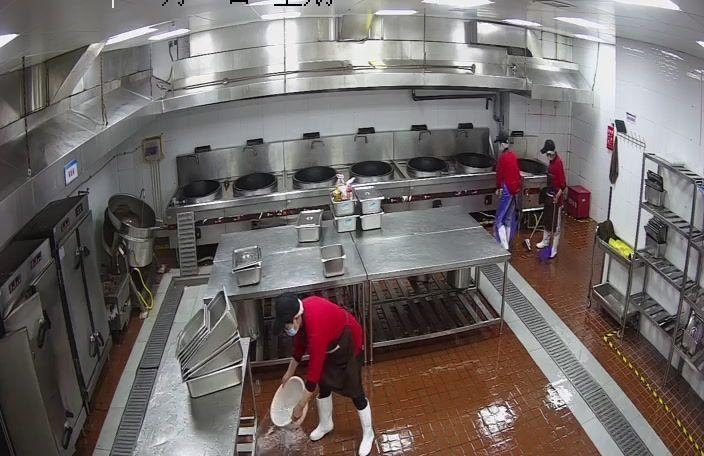no_apron: (289, 398, 312, 425)
